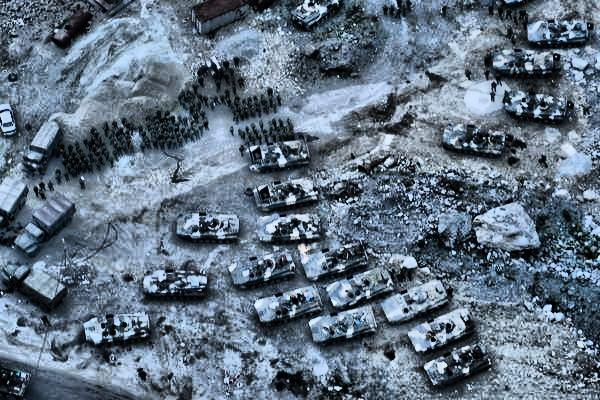military-vehicle: (13, 192, 75, 257), (0, 261, 67, 309), (407, 309, 474, 353), (424, 345, 491, 388), (383, 281, 447, 325), (326, 267, 393, 309), (301, 241, 368, 281), (253, 288, 322, 326), (228, 251, 295, 289), (440, 122, 506, 159), (309, 307, 375, 344), (83, 310, 150, 346), (503, 91, 568, 125), (255, 213, 322, 245), (141, 269, 209, 300), (249, 141, 311, 175), (23, 123, 63, 175), (489, 47, 555, 78), (254, 181, 318, 212), (176, 213, 241, 243), (526, 19, 588, 47)
